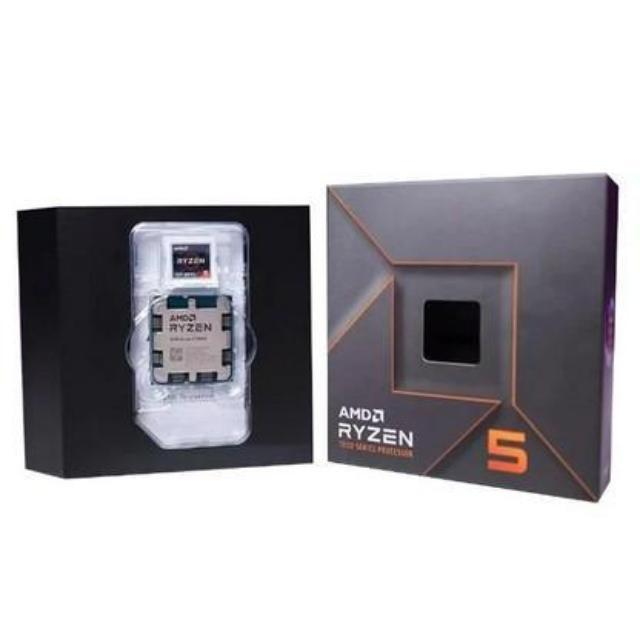CPU: (150, 296, 232, 379)
